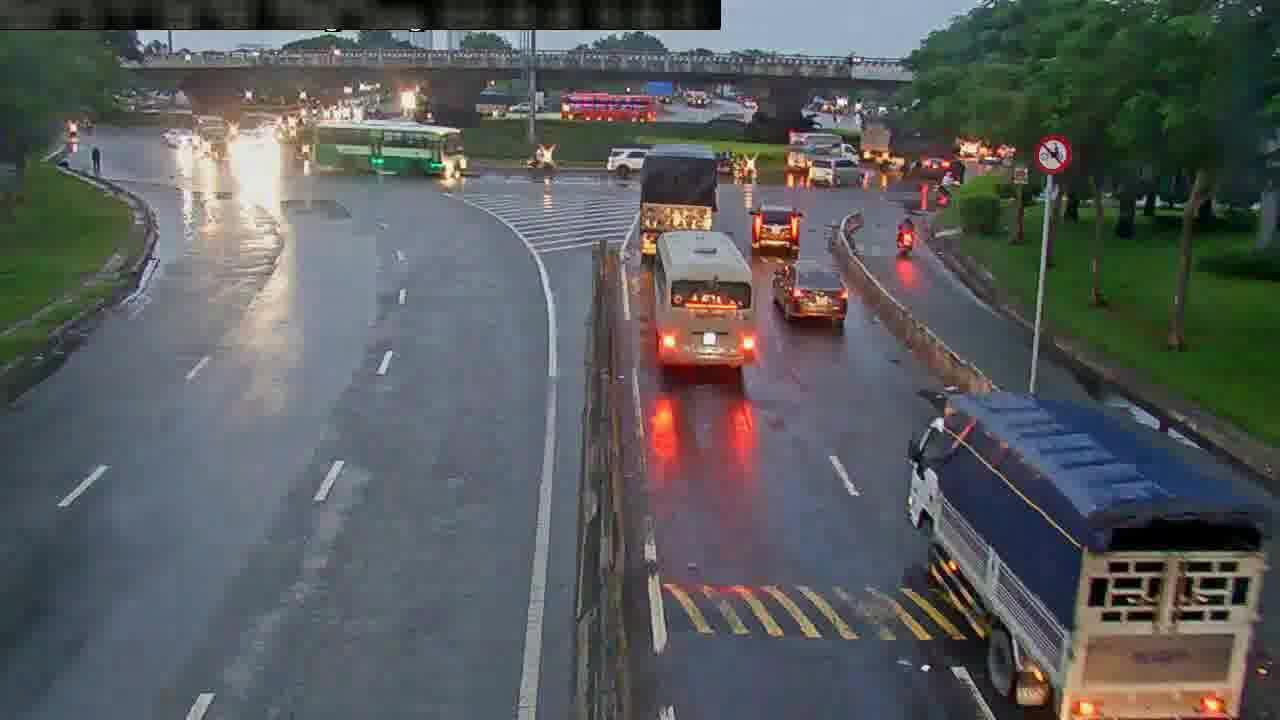14: (649, 229, 748, 376), (301, 116, 469, 177)
8: (901, 393, 1248, 712), (638, 138, 720, 237), (786, 131, 861, 170)
container: (774, 258, 850, 321), (744, 202, 801, 255), (805, 160, 867, 188), (604, 147, 652, 177)
motorbike: (518, 144, 557, 179), (897, 213, 914, 264)
